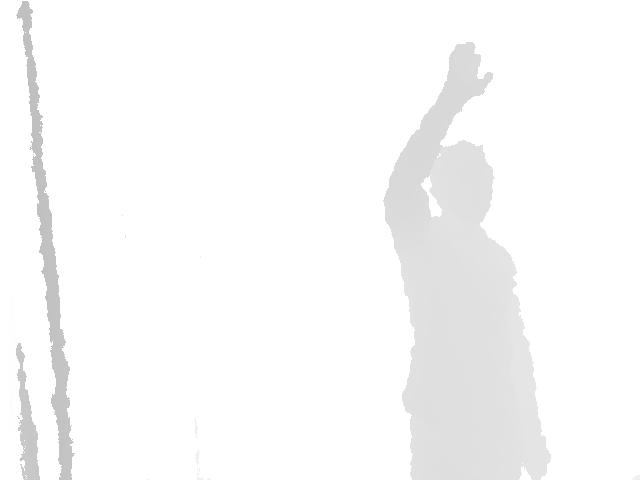hand: (447, 42, 493, 104)
hand_down: (519, 433, 552, 479)
head: (425, 139, 494, 227)
person: (381, 42, 553, 480)
